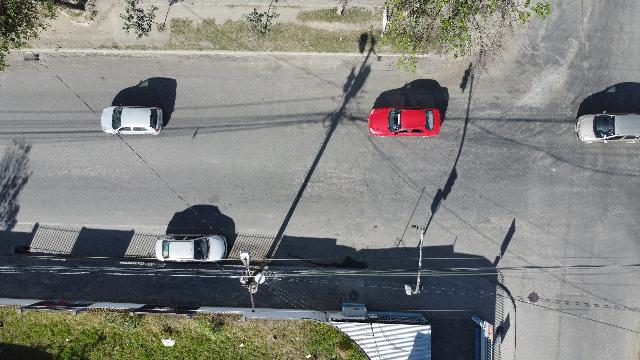Vehiculo: (368, 108, 441, 136), (155, 234, 227, 262), (575, 113, 639, 143), (101, 105, 163, 134)
